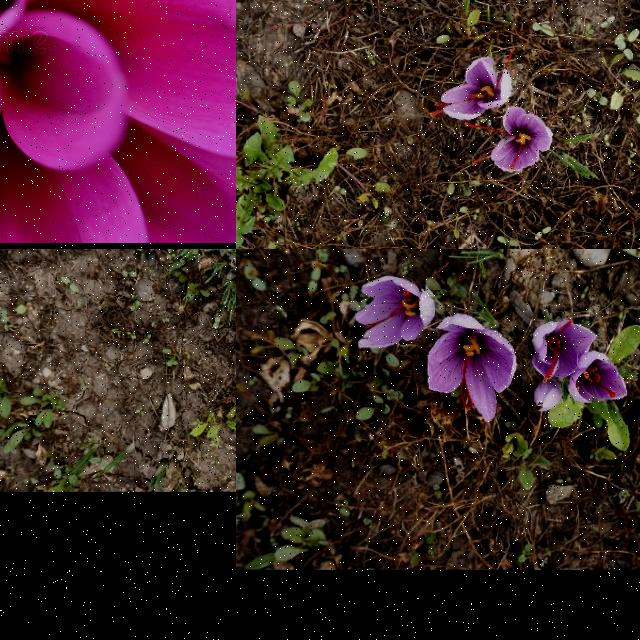flower: (426, 312, 518, 423), (464, 106, 554, 174), (354, 275, 436, 349), (430, 48, 514, 120), (531, 318, 599, 384), (567, 351, 629, 404)
